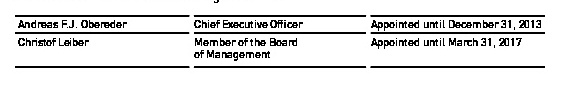table: (0, 0, 561, 87)
